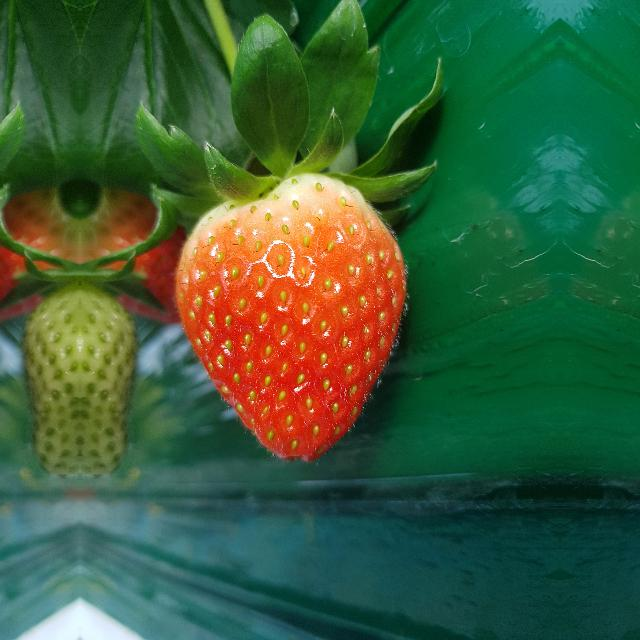Health_100: (172, 176, 408, 462)
